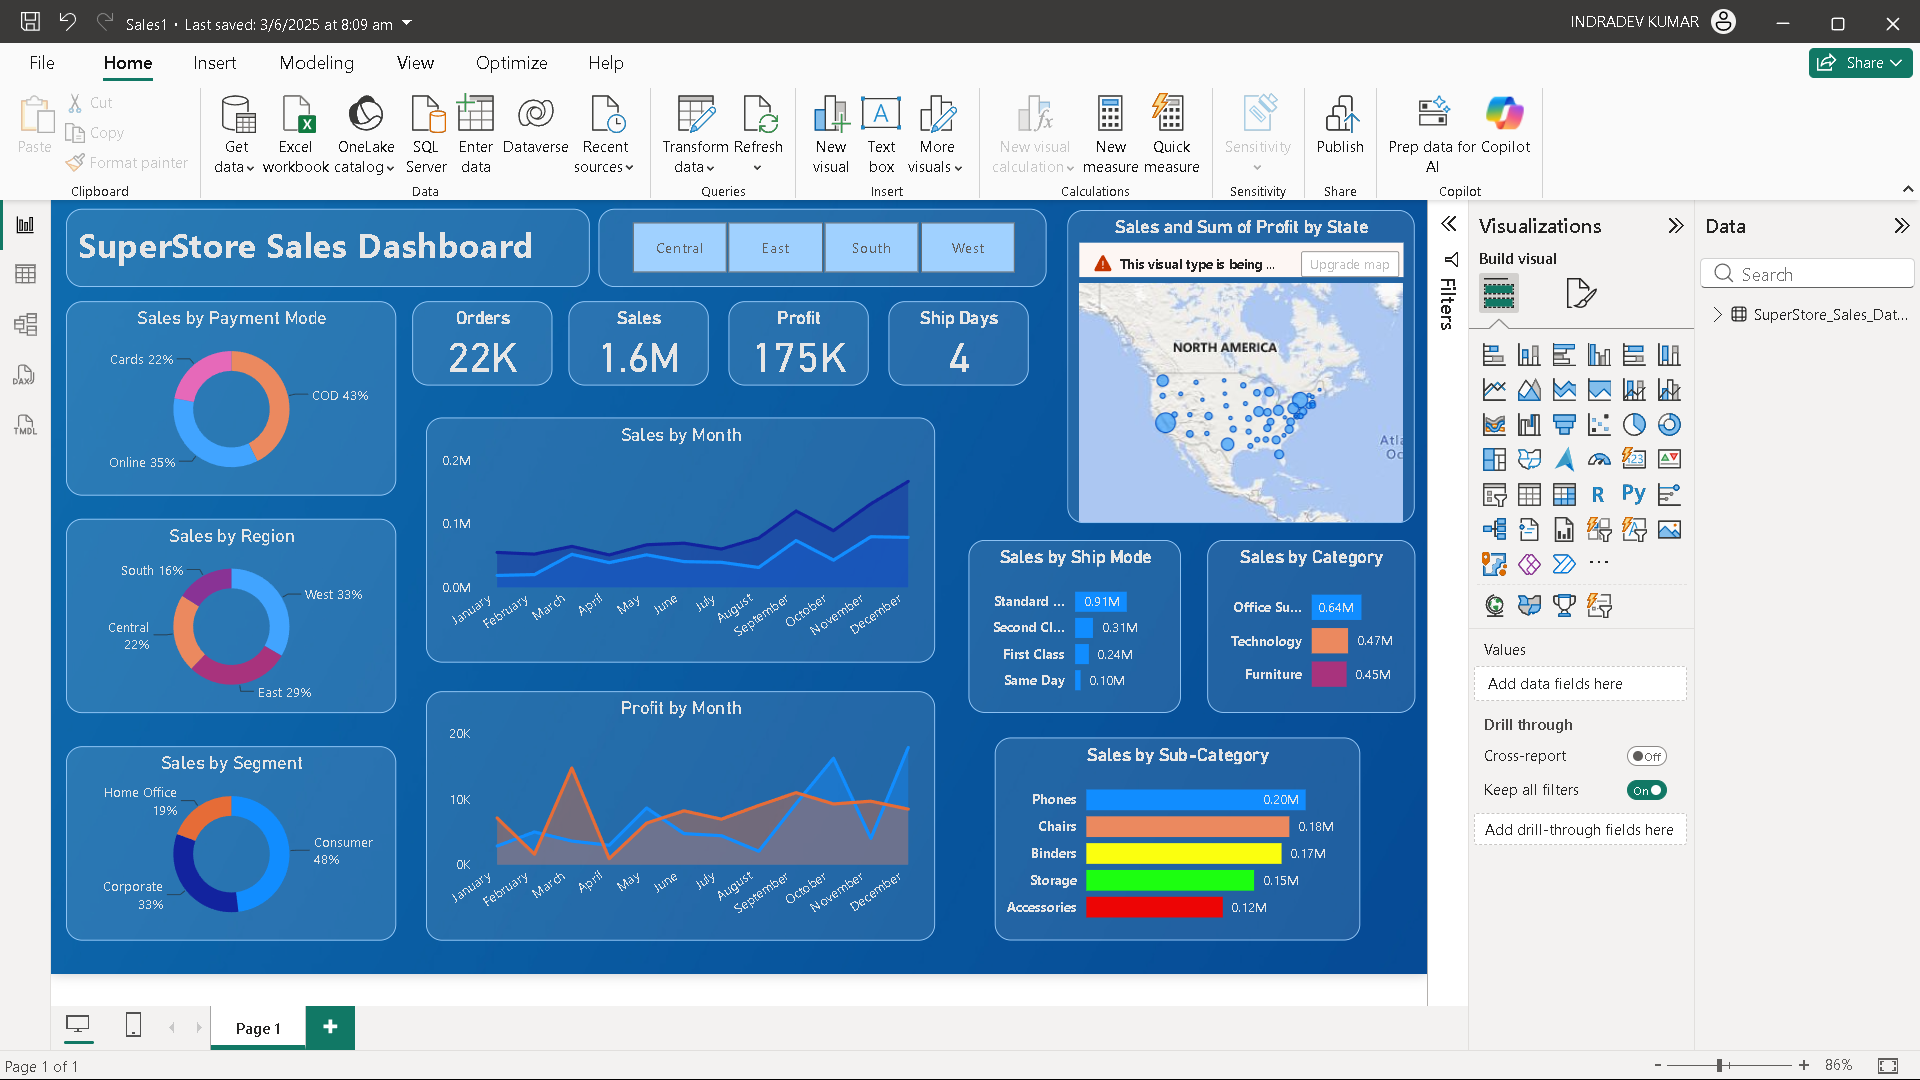

What the dashboard file says about the page in this screenshot:
{"tool":"powerbi","page":{"name":"Page 1","canvas":[1280,720],"ordinal":0},"visuals":[{"type":"card","title":"Orders","fields":{"Values":["Sum(SuperStore_Sales_Dataset.Quantity)"]},"box":[336.2,94.7,130.4,78.2],"z":0},{"type":"card","title":"Sales","fields":{"Values":["Sum(SuperStore_Sales_Dataset.Sales)"]},"box":[481.6,94.7,130.4,78.2],"z":1000},{"type":"card","title":"Profit","fields":{"Values":["Sum(SuperStore_Sales_Dataset.Profit)"]},"box":[629.8,94.7,130.4,78.2],"z":2000},{"type":"card","title":"Ship Days","fields":{"Values":["Avg(SuperStore_Sales_Dataset.Avg Delivery)"]},"box":[779.4,94.7,130.4,78.2],"z":3000},{"type":"donutChart","title":"Sales by Payment Mode","fields":{"Category":["SuperStore_Sales_Dataset.Payment Mode"],"Y":["Sum(SuperStore_Sales_Dataset.Sales)"]},"box":[13.7,94.7,307.4,181.1],"z":4000},{"type":"donutChart","title":"Sales by Region","fields":{"Category":["SuperStore_Sales_Dataset.Region"],"Y":["Sum(SuperStore_Sales_Dataset.Sales)"]},"box":[13.7,296.4,307.4,181.1],"z":5000},{"type":"donutChart","title":"Sales by Segment","fields":{"Category":["SuperStore_Sales_Dataset.Segment"],"Y":["Sum(SuperStore_Sales_Dataset.Sales)"]},"box":[13.7,507.7,307.4,181.1],"z":6000},{"type":"areaChart","title":"Sales by Month","fields":{"Category":["SuperStore_Sales_Dataset.Order Date.Variation.Date Hierarchy.Month"],"Series":["SuperStore_Sales_Dataset.Order Date.Variation.Date Hierarchy.Year"],"Y":["Sum(SuperStore_Sales_Dataset.Sales)"]},"box":[348.9,202.2,473.3,227.8],"z":7000},{"type":"areaChart","title":"Profit by Month","fields":{"Category":["SuperStore_Sales_Dataset.Order Date.Variation.Date Hierarchy.Month"],"Series":["SuperStore_Sales_Dataset.Order Date.Variation.Date Hierarchy.Year"],"Y":["Sum(SuperStore_Sales_Dataset.Profit)"]},"box":[348.9,456.7,473.3,232.2],"z":8000},{"type":"map","title":"Sales and Sum of Profit by State","fields":{"Category":["SuperStore_Sales_Dataset.State"],"Size":["Sum(SuperStore_Sales_Dataset.Sales)"]},"box":[945.6,8.9,323.3,291.1],"z":9000},{"type":"barChart","title":" Sales by Ship Mode","fields":{"Category":["SuperStore_Sales_Dataset.Ship Mode"],"Y":["Sum(SuperStore_Sales_Dataset.Sales)"]},"box":[853.3,316.7,197.8,161.1],"z":10000},{"type":"barChart","title":" Sales by Category","fields":{"Category":["SuperStore_Sales_Dataset.Category"],"Y":["Sum(SuperStore_Sales_Dataset.Sales)"]},"box":[1075.6,316.7,193.3,161.1],"z":11000},{"type":"barChart","title":" Sales by Sub-Category","fields":{"Category":["SuperStore_Sales_Dataset.Sub-Category"],"Y":["Sum(SuperStore_Sales_Dataset.Sales)"]},"box":[877.8,500,340,188.9],"z":12000},{"type":"textbox","box":[13.7,8.2,487.1,72.7],"z":13000},{"type":"slicer","fields":{"Values":["SuperStore_Sales_Dataset.Region"]},"box":[509.1,8.2,417.2,72.7],"z":14000}]}

Visuals, with their boxes on the page's 1280x720 design canvas (x1, y1, x2, y2). These are canvas units, not pixel positions in the 1920x1080 screenshot, which may show the page scaled, cropped or inside an application window:
"Orders" card: crop(336, 95, 467, 173)
"Sales" card: crop(482, 95, 612, 173)
"Profit" card: crop(630, 95, 760, 173)
"Ship Days" card: crop(779, 95, 910, 173)
"Sales by Payment Mode" donutChart: crop(14, 95, 321, 276)
"Sales by Region" donutChart: crop(14, 296, 321, 478)
"Sales by Segment" donutChart: crop(14, 508, 321, 689)
"Sales by Month" areaChart: crop(349, 202, 822, 430)
"Profit by Month" areaChart: crop(349, 457, 822, 689)
"Sales and Sum of Profit by State" map: crop(946, 9, 1269, 300)
" Sales by Ship Mode" barChart: crop(853, 317, 1051, 478)
" Sales by Category" barChart: crop(1076, 317, 1269, 478)
" Sales by Sub-Category" barChart: crop(878, 500, 1218, 689)
textbox: crop(14, 8, 501, 81)
slicer - SuperStore_Sales_Dataset.Region: crop(509, 8, 926, 81)
